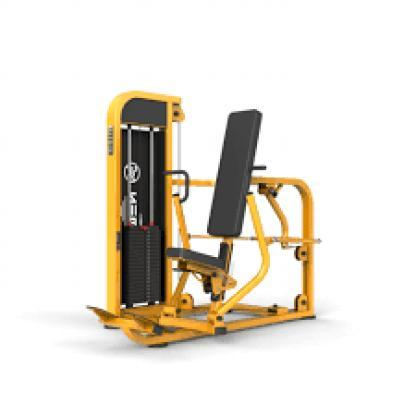Chest Press machine: (82, 85, 332, 353)
